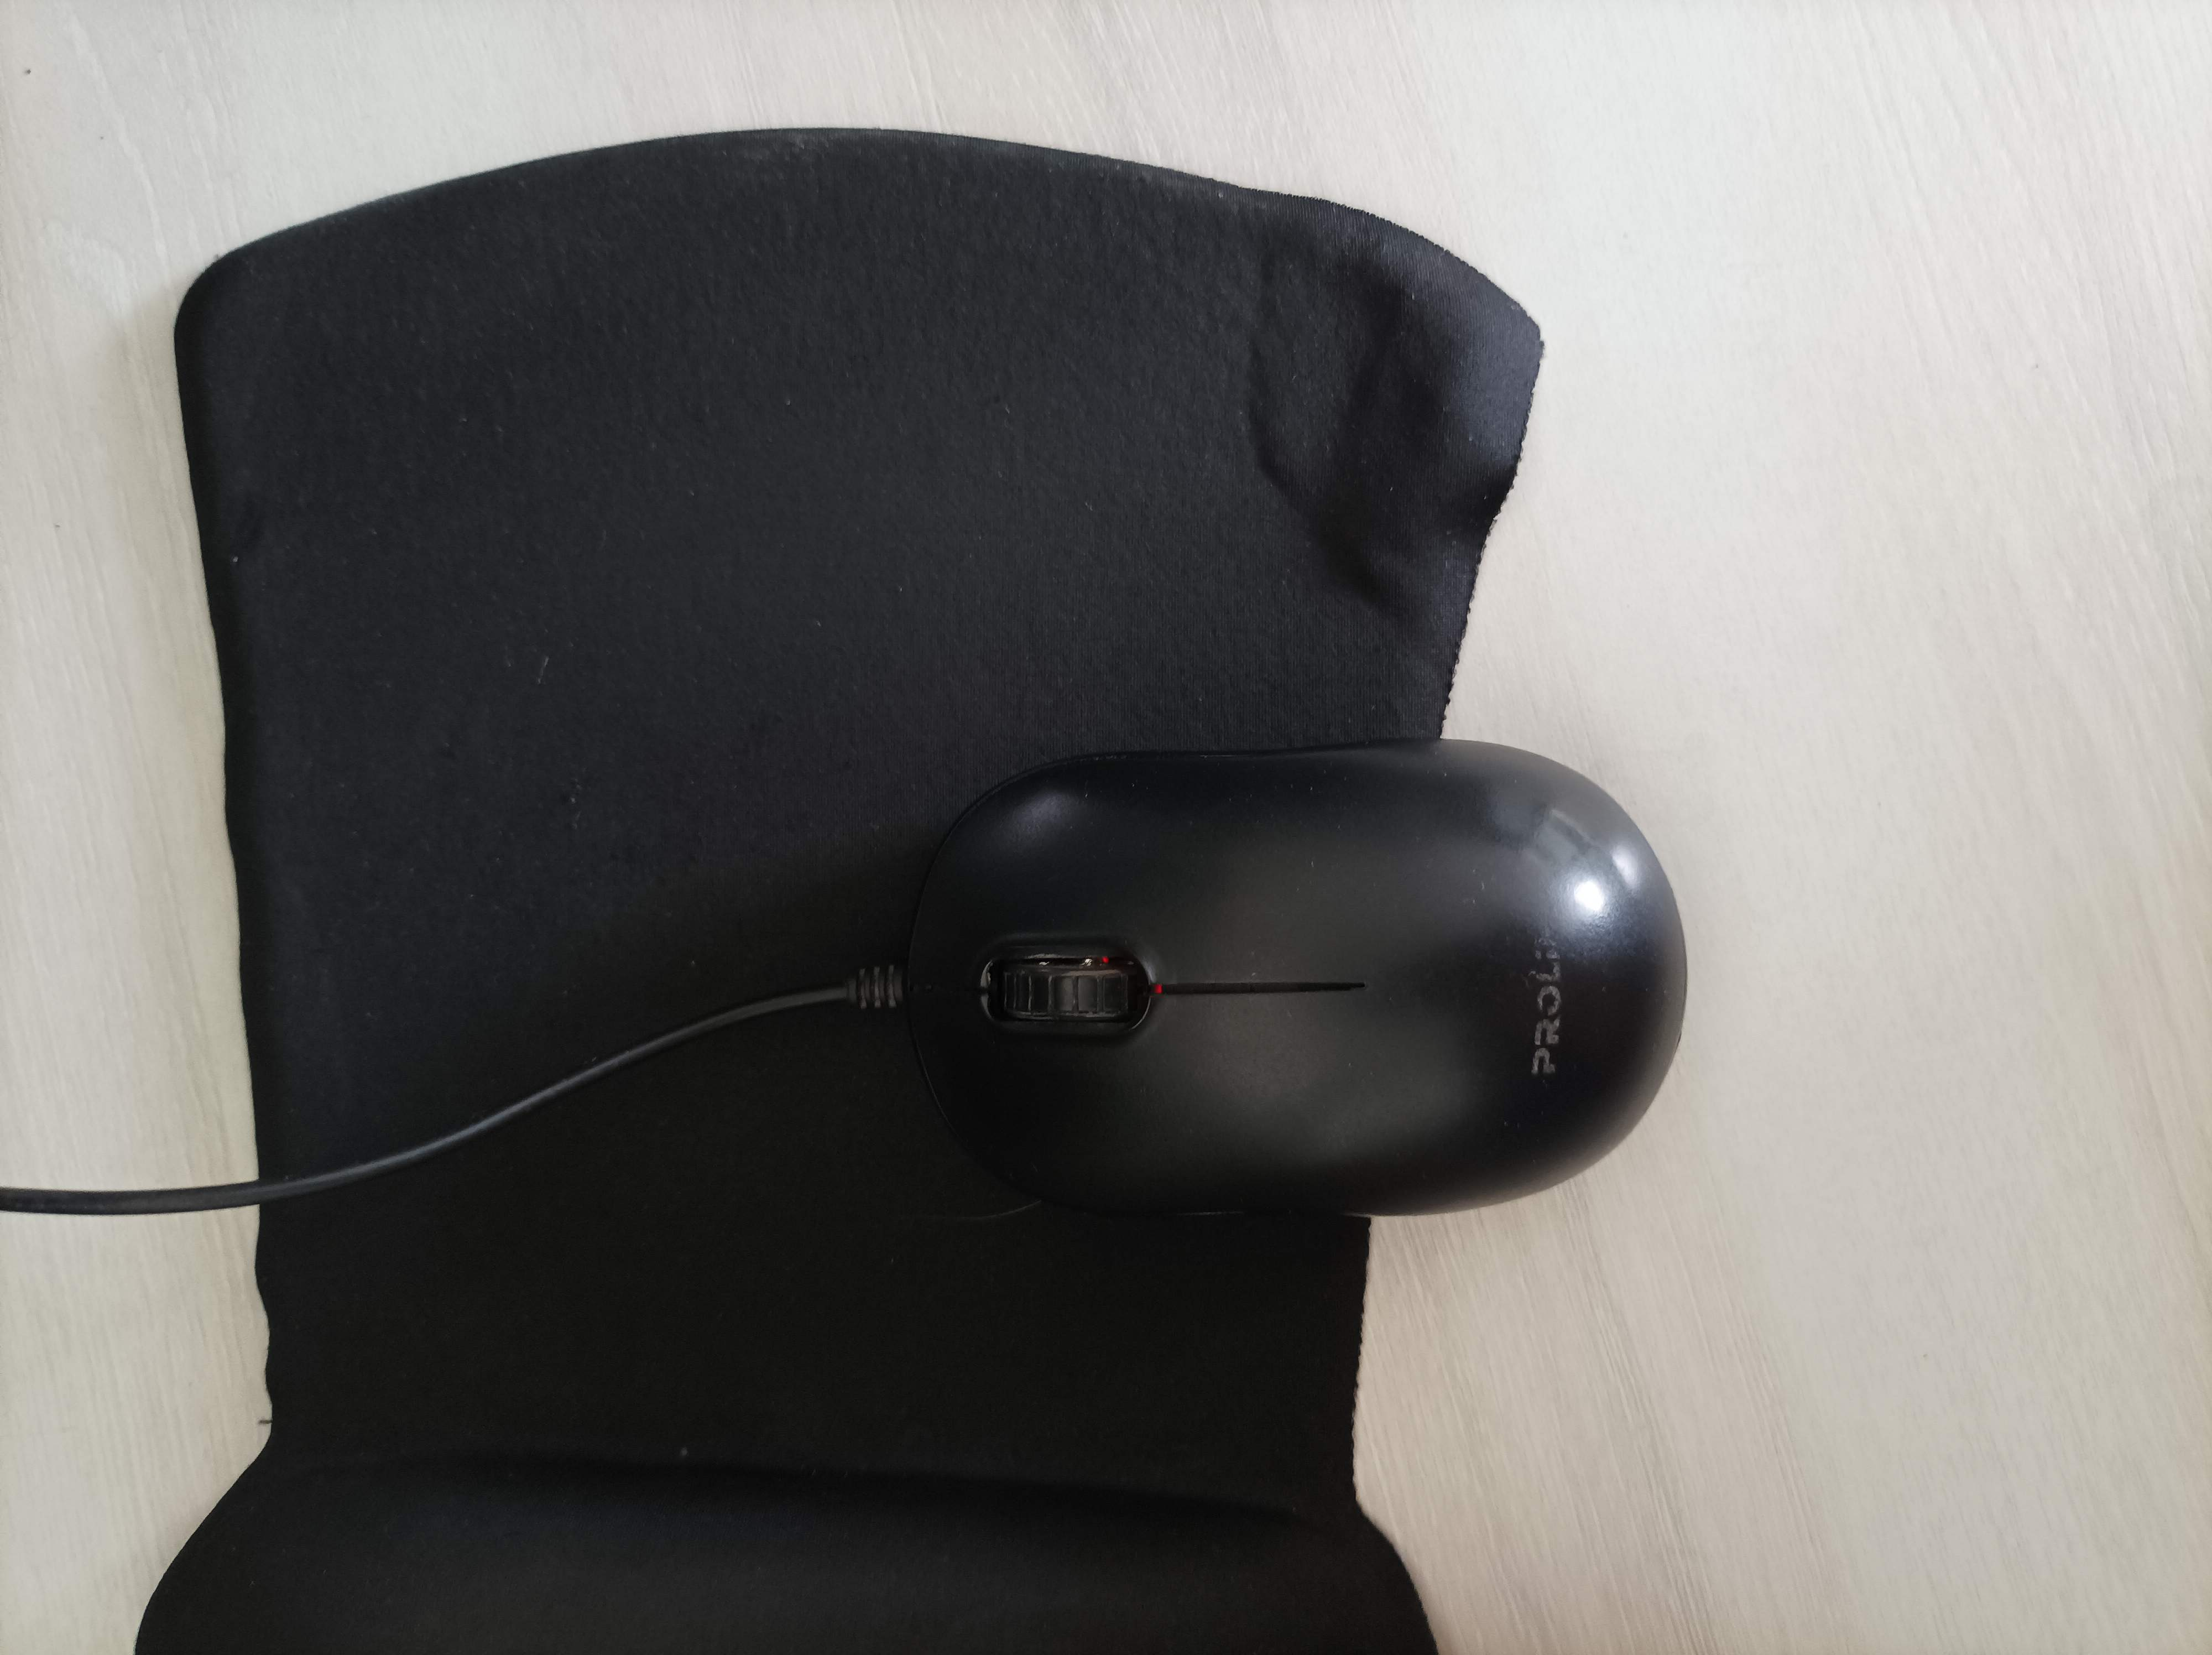mouse: (857, 721, 1701, 1234)
